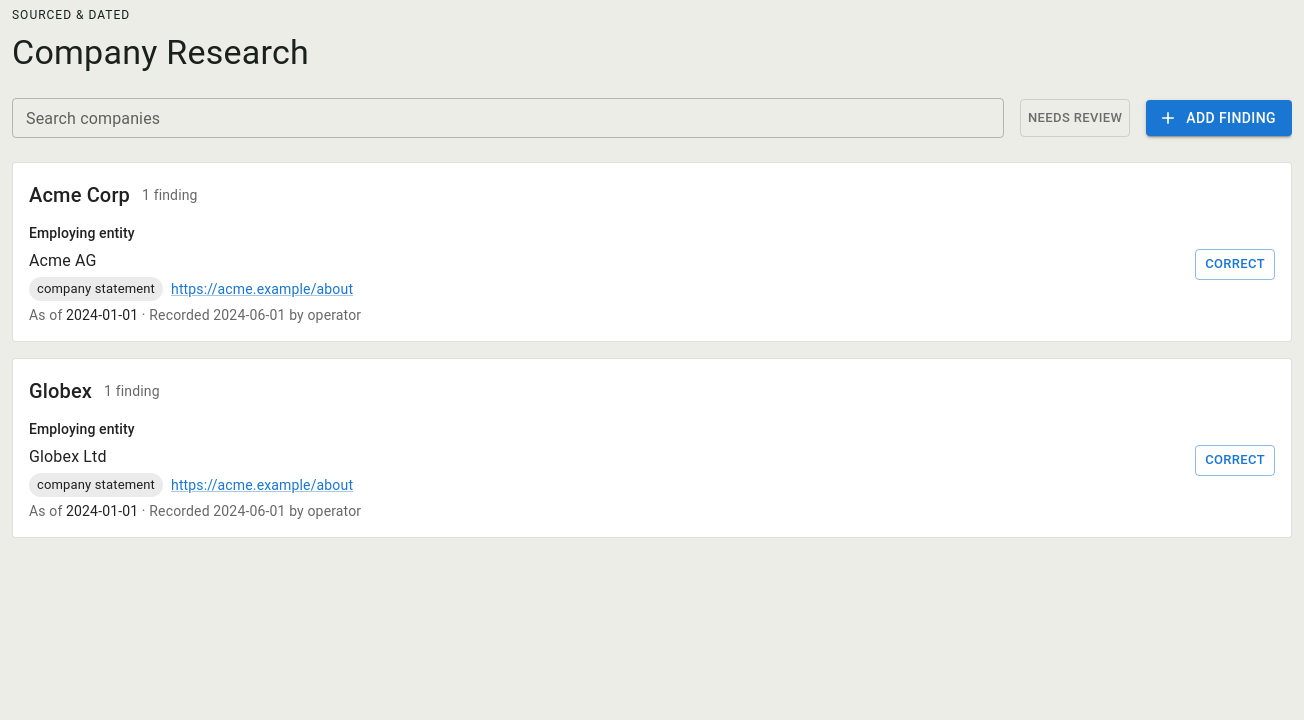
Test case: CompanyResearchPage › filters cards by the search box and shows a no-match state
The image size is (1304, 720).
Expected: the heading "Globex" is shown, [29, 375, 92, 407]
Type "glob" into the search field labelled "Search companies".
click(508, 118); type("glob")  # box [12, 98, 1004, 138]
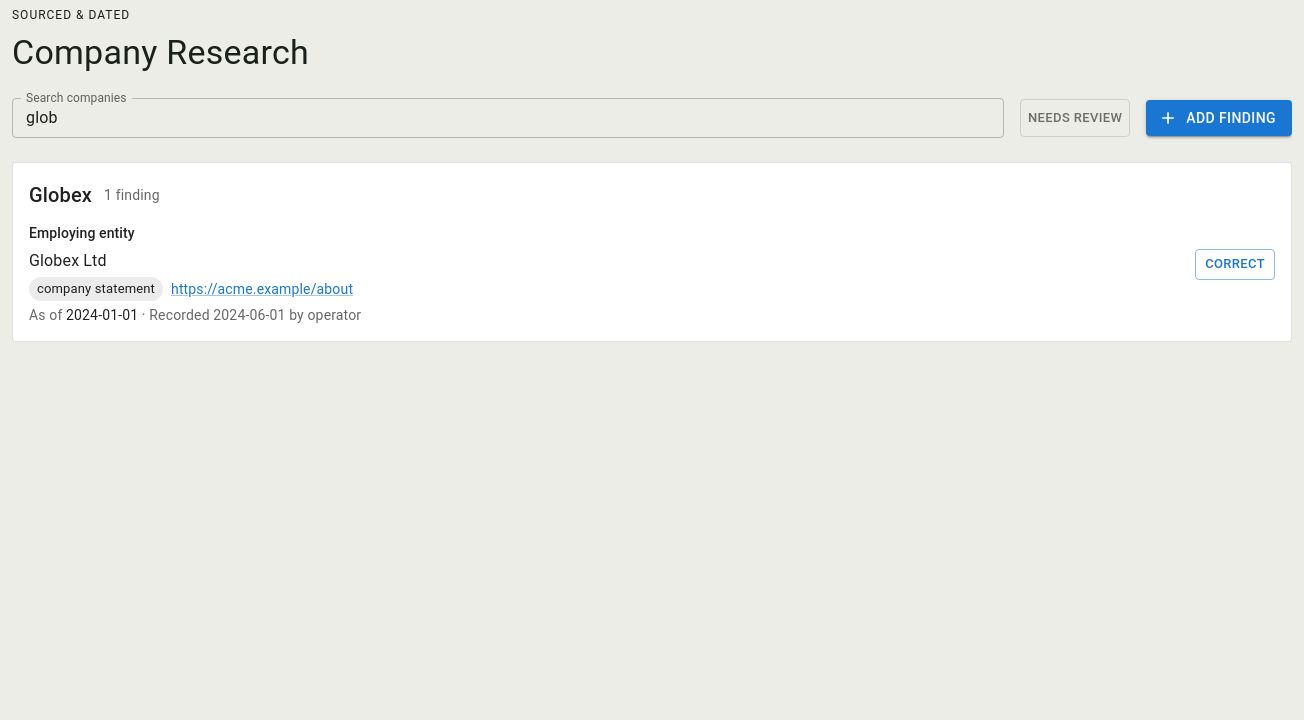
Expected: the heading "Globex" is shown, [29, 179, 92, 211]
Now the heading "Acme Corp" is gone
Replace the text in the search field labelled "Search companies" with "zzz" at (508, 118), box [12, 98, 1004, 138]
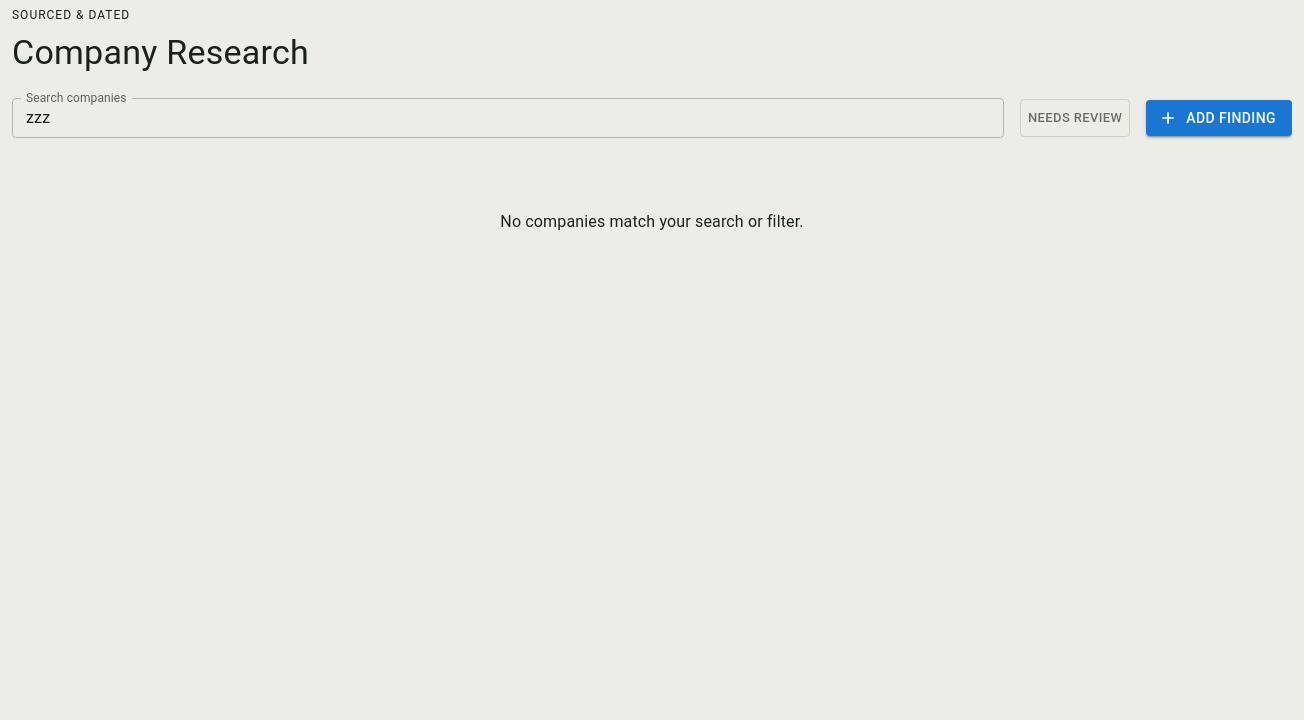
Now the text "No companies match your search or filter." is shown, box [500, 212, 804, 231]
